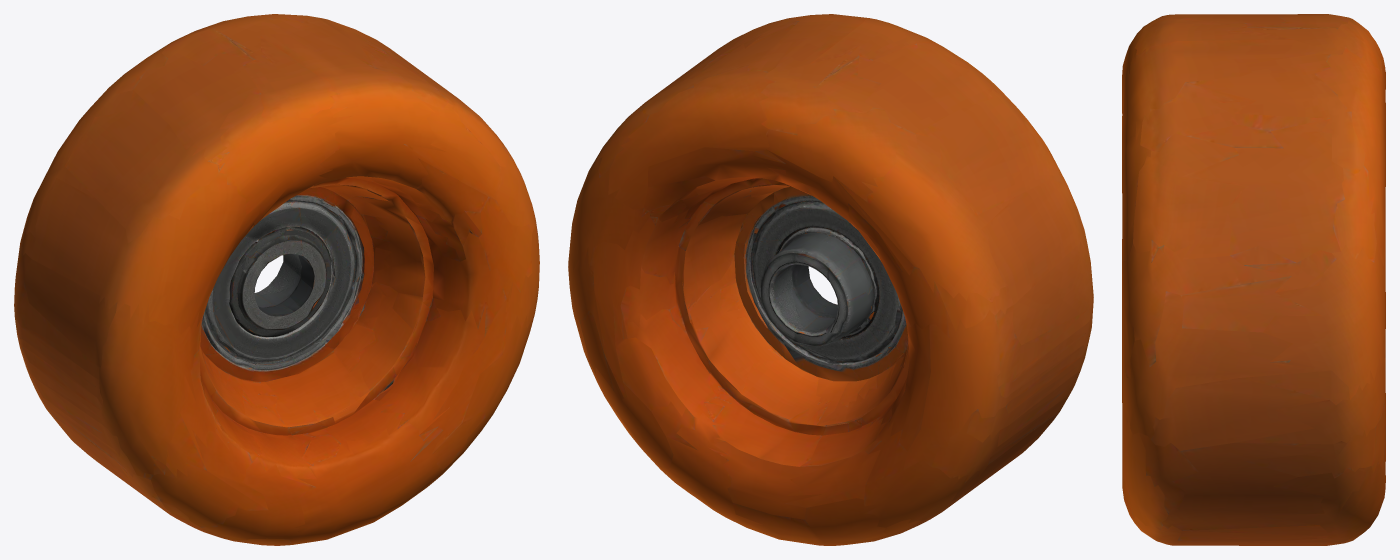
The model's file is wheel_lo.glb.
3 renders of one model, left to right at view 1: azimuth 30°, elevation 25°; view 2: azimuth 150°, elevation 25°; view 3: azimuth 270°, elevation 25°, orthographic. The views are drawn at different scales.
Visible parts, largest first — view 1: mesh_node; view 2: mesh_node; view 3: mesh_node.
Part boxes in pixels (left/top/right/bottom): mesh_node: left=14, top=14, right=539, bottom=545; mesh_node: left=568, top=14, right=1093, bottom=545; mesh_node: left=1122, top=14, right=1385, bottom=545.
Size of the model in its own units: 1.9 by 1.9 by 0.9432.
1 material, 1 textured.
